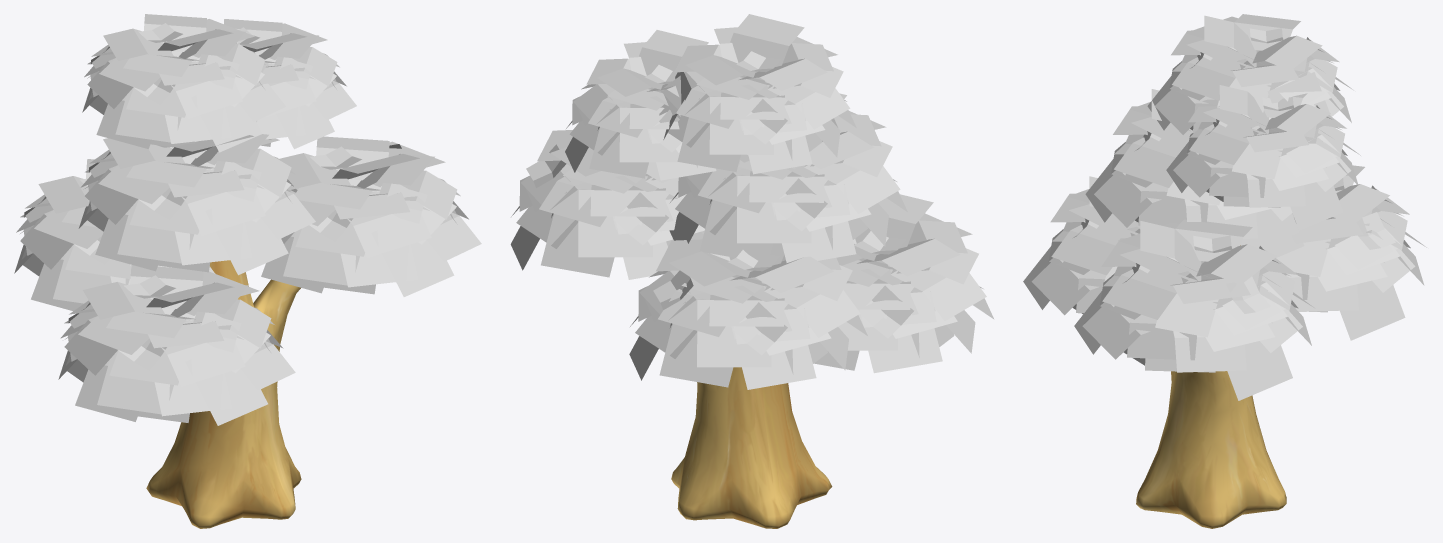
The model's file is Apple_tree.fbx.
The picture shows the model from 3 angles, left to right: view 1: azimuth 30°, elevation 25°; view 2: azimuth 150°, elevation 25°; view 3: azimuth 270°, elevation 25°; orthographic projection. The views are drawn at different scales.
Parts seen in each view (by area): view 1: Cube.035; view 2: Cube.035; view 3: Cube.035.
Boxes of the visible parts, left/top/right/bottom form: Cube.035: left=14, top=14, right=481, bottom=528; Cube.035: left=510, top=14, right=994, bottom=528; Cube.035: left=1023, top=14, right=1426, bottom=528.
Bounding box in the file's own units: 1.5 × 1.64 × 1.32.
